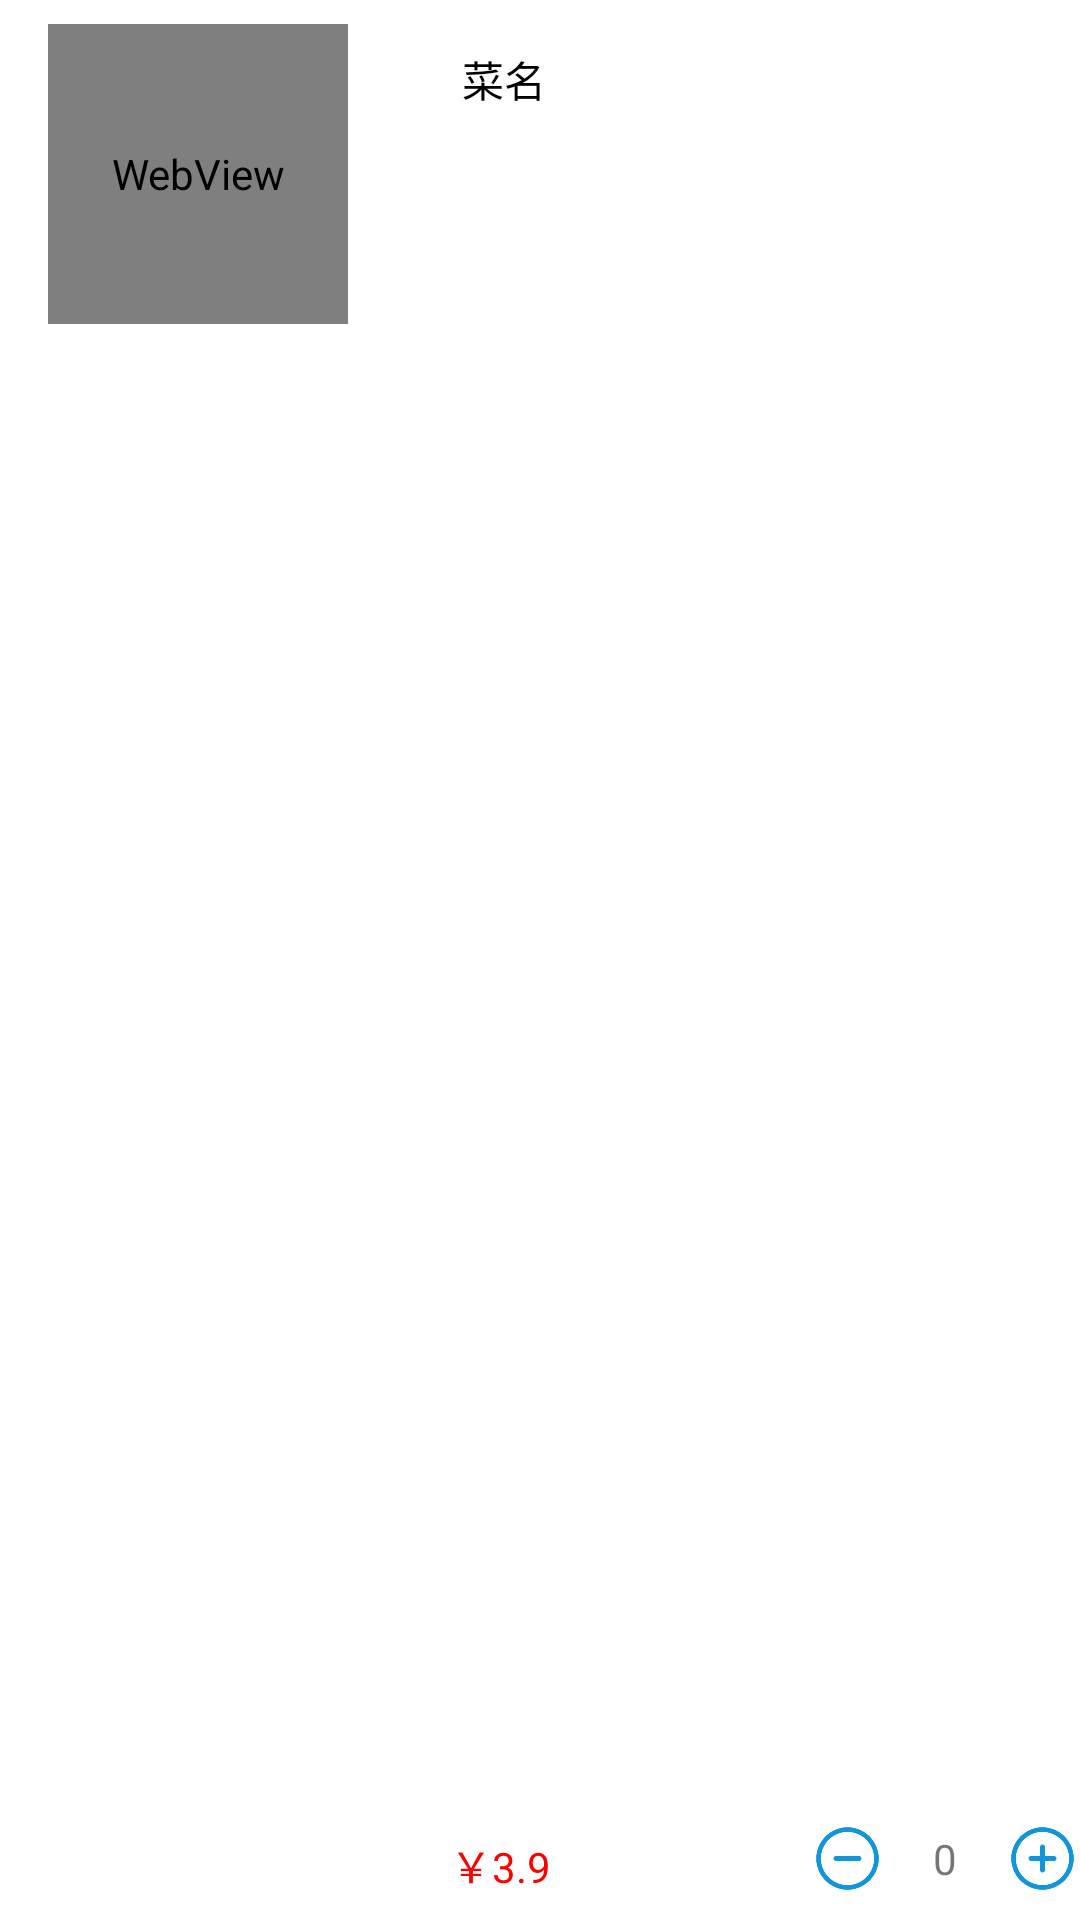

Icon click points for this 1080 × 1920 phone screenshot, format point (x, y):
add: point (1042, 1858)
reduce: point (847, 1858)
